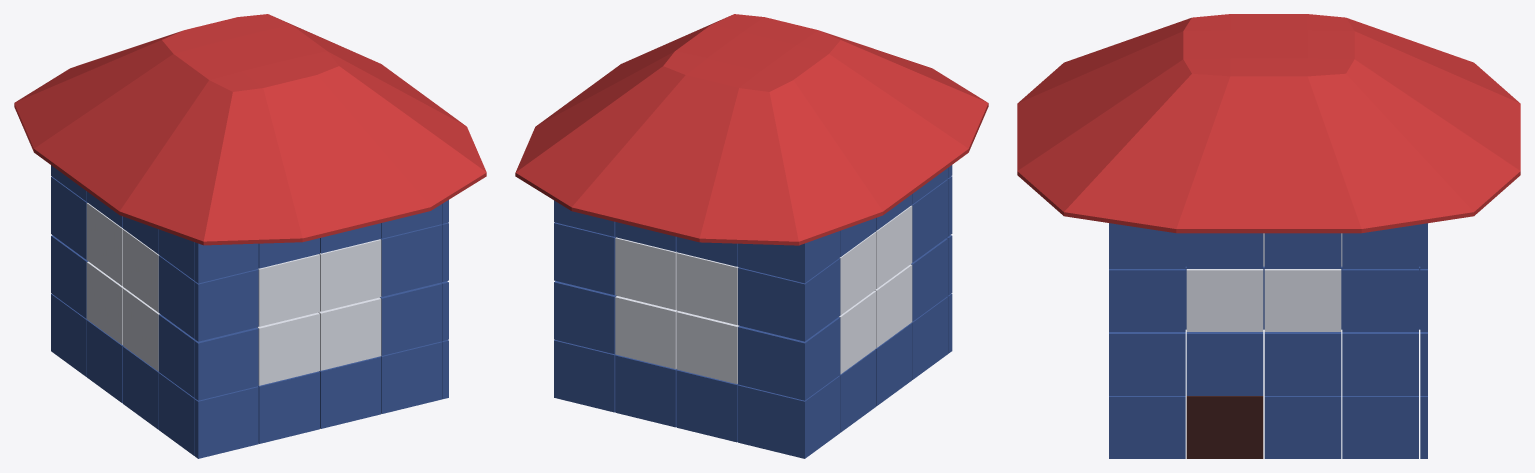
The model's file is house05.fbx.
The picture shows the model from 3 angles, left to right: view 1: azimuth 30°, elevation 25°; view 2: azimuth 150°, elevation 25°; view 3: azimuth 270°, elevation 25°; orthographic projection. The views are drawn at different scales.
Visible parts, largest first — view 1: Cube.018; view 2: Cube.018; view 3: Cube.018.
Boxes of the visible parts, bbox=[...] form: Cube.018: bbox=[14, 14, 486, 458]; Cube.018: bbox=[515, 14, 988, 458]; Cube.018: bbox=[1017, 14, 1520, 458].
Size of the model in its own units: 600 by 532 by 695.
